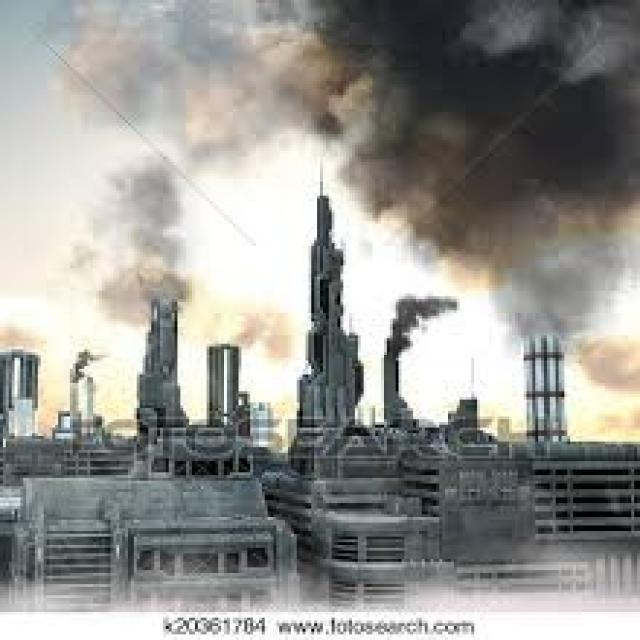Smoke: (0, 0, 640, 349)
